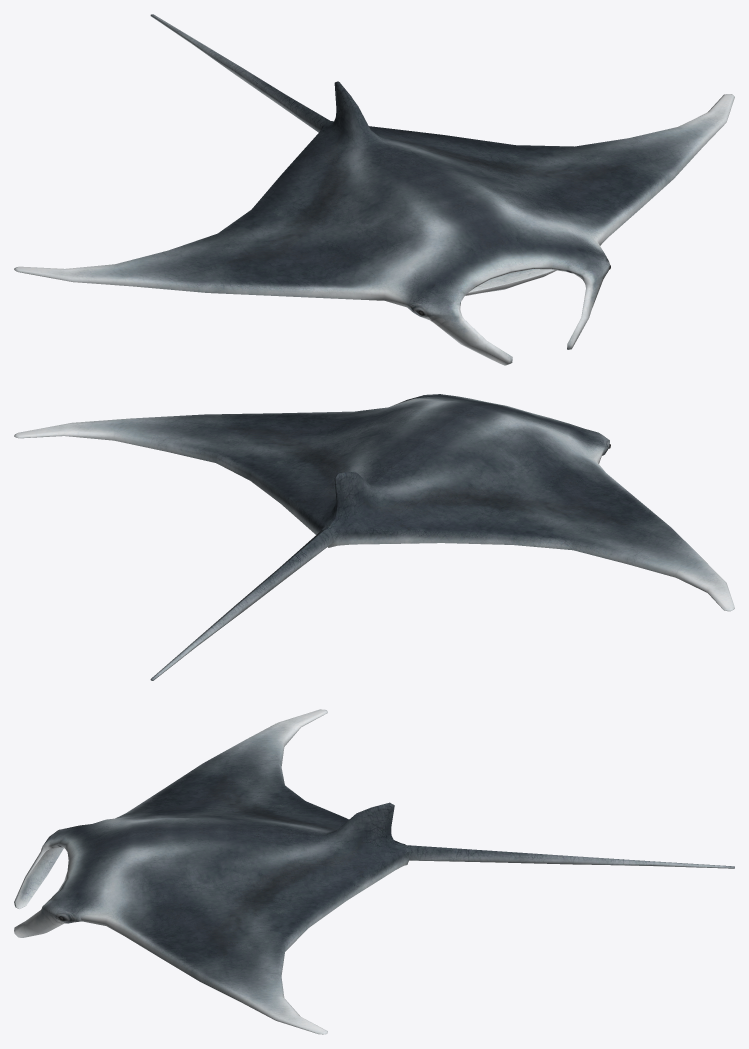
File: manta_low_poly.glb
The picture shows the model from 3 angles, top to bottom: view 1: azimuth 30°, elevation 25°; view 2: azimuth 150°, elevation 25°; view 3: azimuth 270°, elevation 25°; orthographic projection. The views are drawn at different scales.
Visible parts, largest first — view 1: SeaLifeMantaRaySKM; view 2: SeaLifeMantaRaySKM; view 3: SeaLifeMantaRaySKM.
Part boxes in pixels (x1=…): SeaLifeMantaRaySKM: x1=14, y1=14, x2=734, y2=365; SeaLifeMantaRaySKM: x1=14, y1=394, x2=734, y2=680; SeaLifeMantaRaySKM: x1=14, y1=709, x2=734, y2=1034.
Bounding box in the file's own units: 383 × 66.1 × 360.
1 material, 1 textured.
